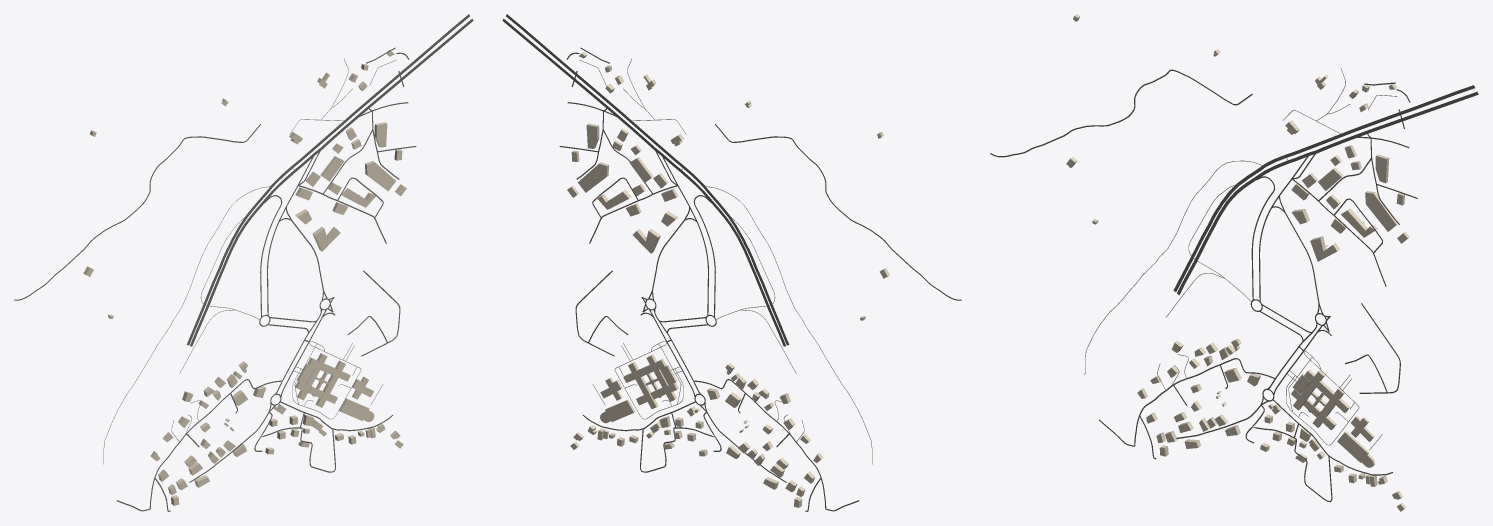
The model's file is salt_3570_3206.glb.
3 views of the same model, side by side, from view 1: azimuth 30°, elevation 25°; view 2: azimuth 150°, elevation 25°; view 3: azimuth 330°, elevation 25° (orthographic). The views are drawn at different scales.
Parts seen in each view (by area): view 1: Building_.057, Road .002, Road .031, Road .011; view 2: Building_.057, Road .002, Road .031, Road .011; view 3: Building_.057, Road .002, Road .031, Building_.064, Building_.074, Road .011.
Part boxes in pixels (x1,y1,x2,y2): Building_.057: [295, 353, 350, 407]; Road .002: [215, 14, 469, 275]; Road .031: [219, 18, 473, 275]; Road .011: [14, 124, 260, 300]; Building_.057: [623, 354, 678, 408]; Road .002: [506, 14, 760, 275]; Road .031: [502, 18, 756, 275]; Road .011: [715, 124, 961, 300]; Building_.057: [1291, 369, 1349, 429]; Road .002: [1204, 85, 1474, 232]; Road .031: [1208, 91, 1478, 235]; Building_.064: [1365, 191, 1397, 231]; Building_.074: [1337, 431, 1374, 467]; Road .011: [990, 69, 1252, 157].
Bounding box in the file's own units: 1333 × 1179 × 16.2.
